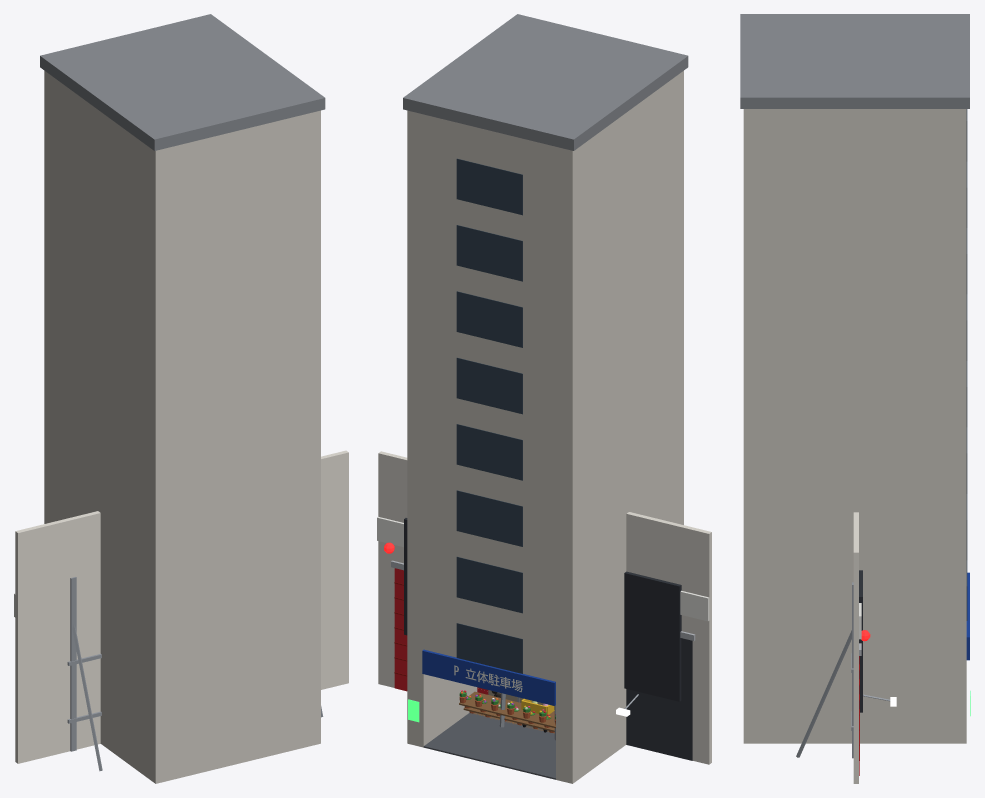
The model's file is city10.glb.
3 renders of one model, left to right at view 1: azimuth 30°, elevation 25°; view 2: azimuth 150°, elevation 25°; view 3: azimuth 270°, elevation 25°, orthographic.
Parts seen in each view (by area): view 1: C10_ParkTower, C10_FireStation, C10_Billboard; view 2: C10_ParkTower, C10_FireStation, C10_Billboard, C10_Florist; view 3: C10_ParkTower, C10_FireStation, C10_Billboard.
Part boxes in pixels (x1=…): C10_ParkTower: x1=40, y1=14, x2=325, y2=783; C10_FireStation: x1=14, y1=450, x2=348, y2=763; C10_Billboard: x1=67, y1=577, x2=323, y2=771; C10_ParkTower: x1=403, y1=14, x2=688, y2=783; C10_FireStation: x1=377, y1=451, x2=711, y2=764; C10_Billboard: x1=404, y1=518, x2=681, y2=716; C10_Florist: x1=459, y1=690, x2=555, y2=733; C10_ParkTower: x1=740, y1=14, x2=970, y2=743; C10_FireStation: x1=853, y1=512, x2=870, y2=783; C10_Billboard: x1=796, y1=570, x2=896, y2=758.
Size of the model in its own units: 12 by 22.42 by 7.22.
